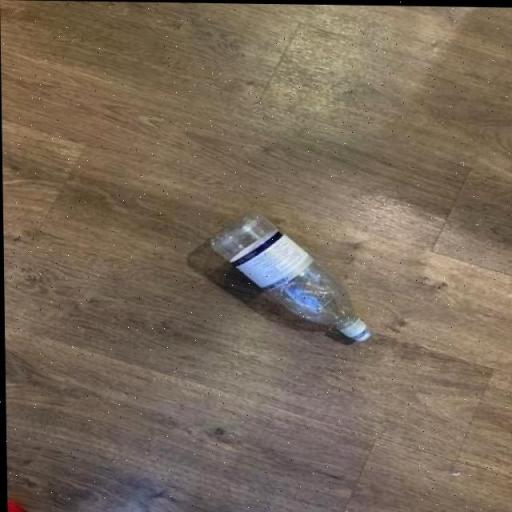plastic: (208, 212, 370, 341)
